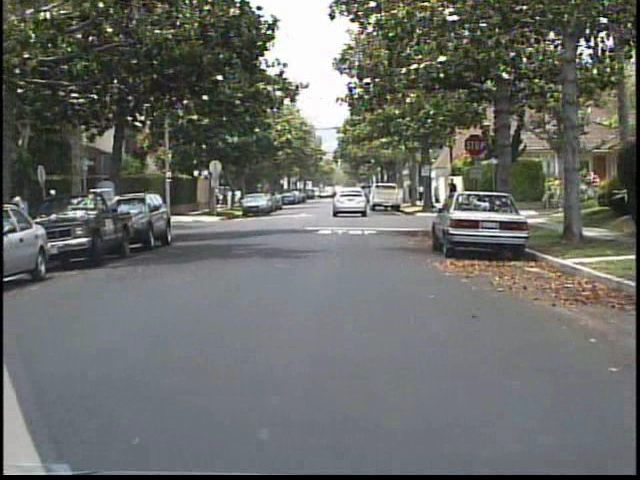person: (12, 183, 40, 269), (444, 176, 461, 213), (417, 181, 427, 205)
